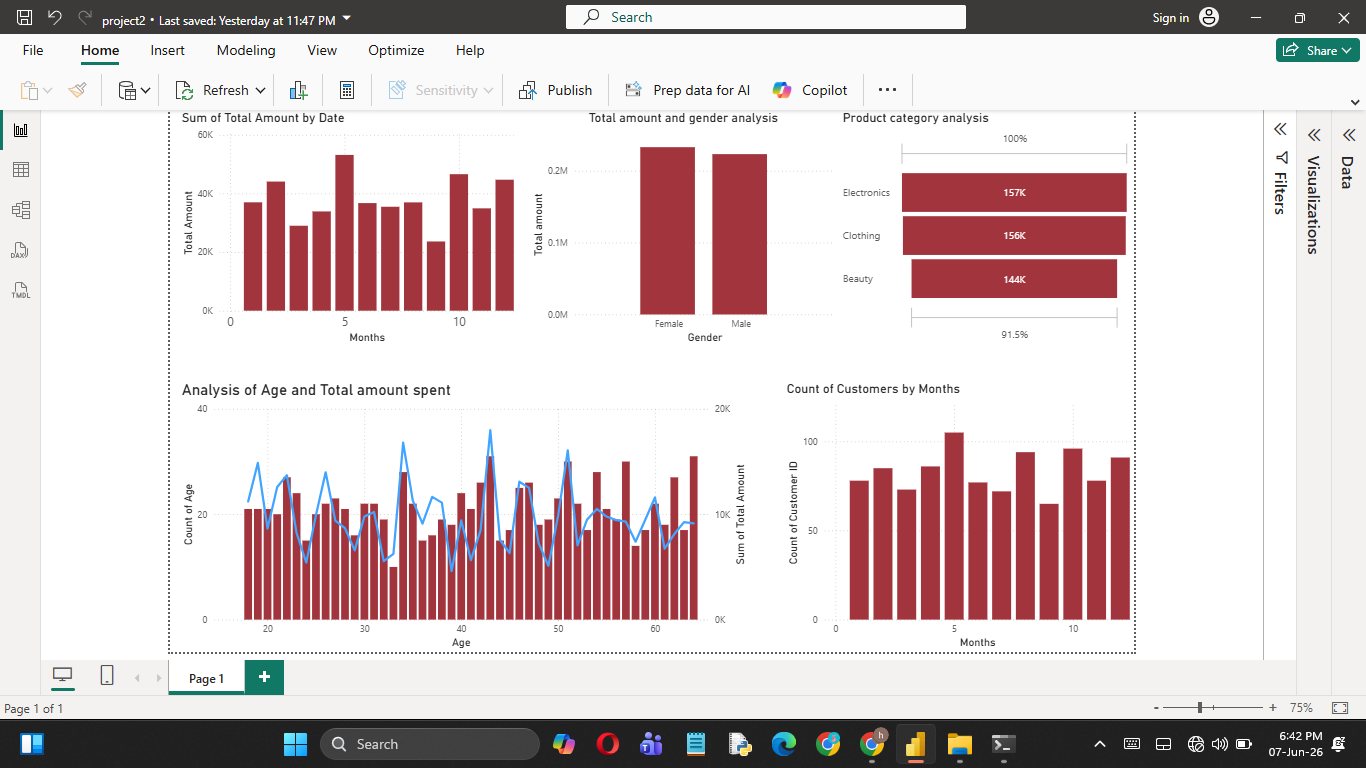

Layout of this report page (visuals, bound fields, positions):
{"tool":"powerbi","page":{"name":"Page 1","canvas":[1280,720],"ordinal":0},"visuals":[{"type":"columnChart","title":"Monthly revenue trend","fields":{"Category":["retail_sales_dataset.Date"],"Y":["Sum(retail_sales_dataset.Total Amount)"]},"box":[10.2,0,452.2,314.6],"z":0},{"type":"funnel","title":"Product category analysis ","fields":{"Category":["retail_sales_dataset.Product Category"],"Y":["Sum(retail_sales_dataset.Total Amount)"]},"box":[888.3,0,392.2,314.6],"z":1000},{"type":"lineStackedColumnComboChart","title":"Total amount and gender analysis","fields":{"Y":["Sum(retail_sales_dataset.Total Amount)"],"Category":["retail_sales_dataset.Gender"]},"box":[475.6,0,412.7,314.6],"z":2000},{"type":"columnChart","title":"Count of Customers by Months","fields":{"Category":["retail_sales_dataset.Date"],"Y":["CountNonNull(retail_sales_dataset.Customer ID)"]},"box":[813.7,360,466.8,360],"z":3000},{"type":"lineStackedColumnComboChart","title":"Analysis of Age and Total amount spent","fields":{"Category":["retail_sales_dataset.Age"],"Y":["CountNonNull(retail_sales_dataset.Age)"],"Y2":["Sum(retail_sales_dataset.Total Amount)"]},"box":[10.2,360,759.5,360],"z":4000}]}

Visuals, with their boxes on the page's 1280x720 design canvas (x1, y1, x2, y2). These are canvas units, not pixel positions in the 1366x768 screenshot, which may show the page scaled, cropped or inside an application window:
"Monthly revenue trend" columnChart: (left=10, top=0, right=462, bottom=315)
"Product category analysis " funnel: (left=888, top=0, right=1280, bottom=315)
"Total amount and gender analysis" lineStackedColumnComboChart: (left=476, top=0, right=888, bottom=315)
"Count of Customers by Months" columnChart: (left=814, top=360, right=1280, bottom=720)
"Analysis of Age and Total amount spent" lineStackedColumnComboChart: (left=10, top=360, right=770, bottom=720)
